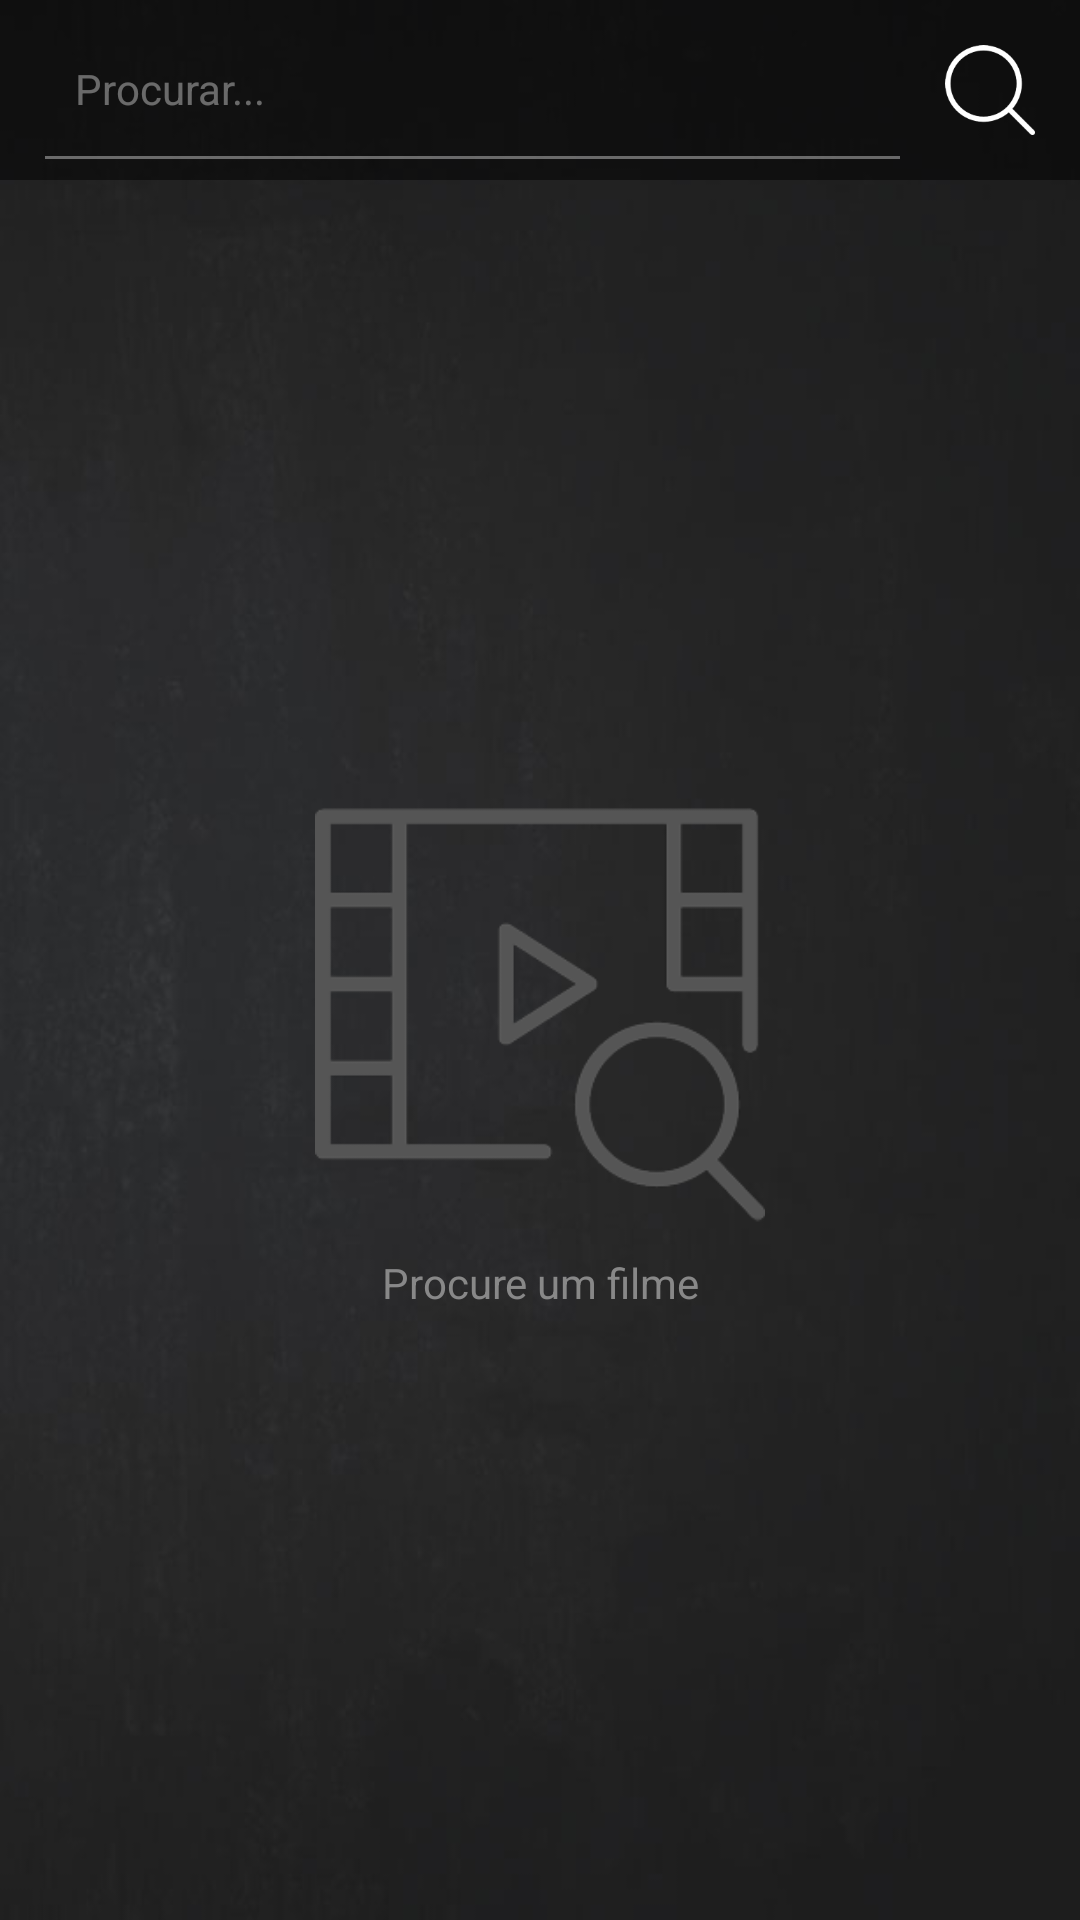

Named icons in this screenshot (1080*1920) and their bounding boxes, (x1, y1, x2, y2):
magnifying glass: (945, 45, 1035, 135)
